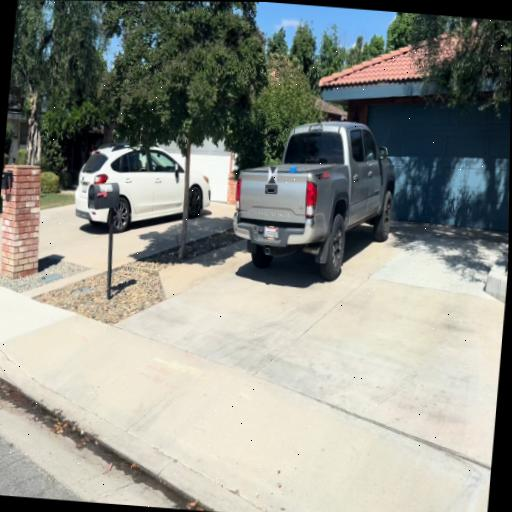target1: (268, 166, 278, 184)
